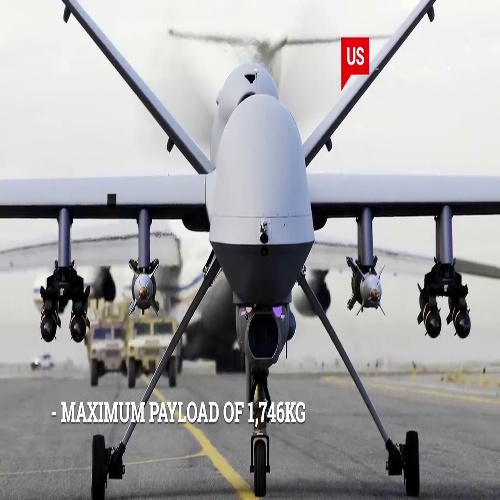uav: (4, 1, 500, 386)
